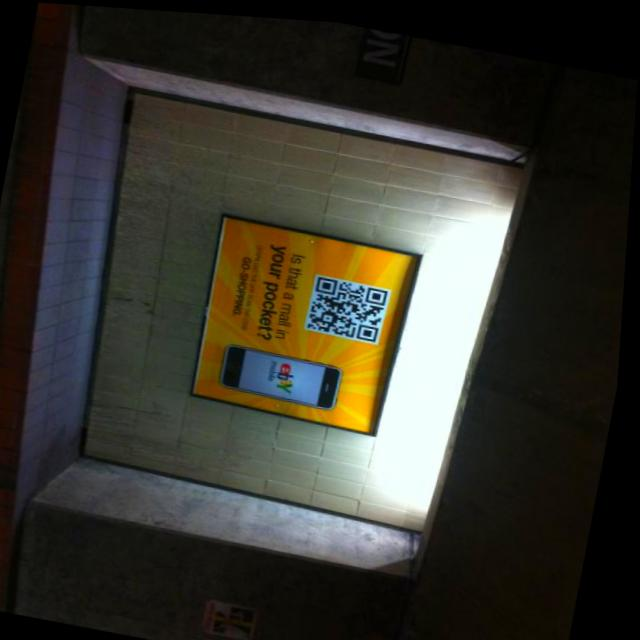qrcode: (310, 272, 391, 337)
